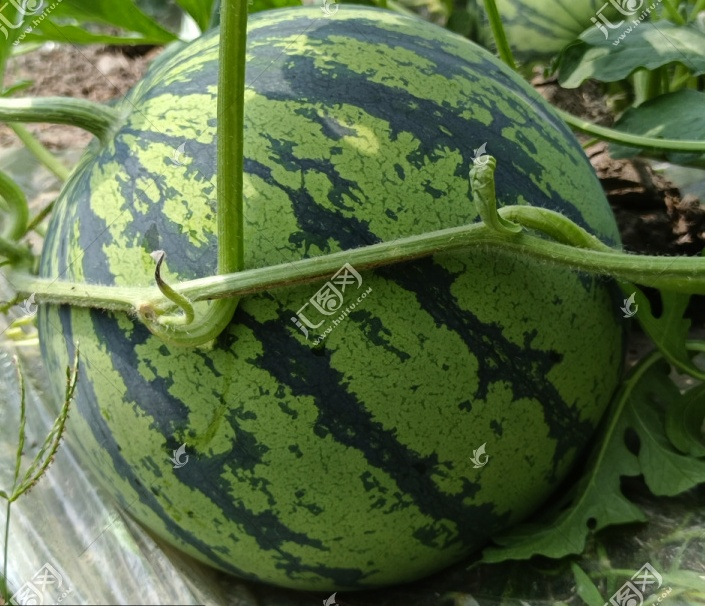watermelon: (46, 4, 630, 599)
